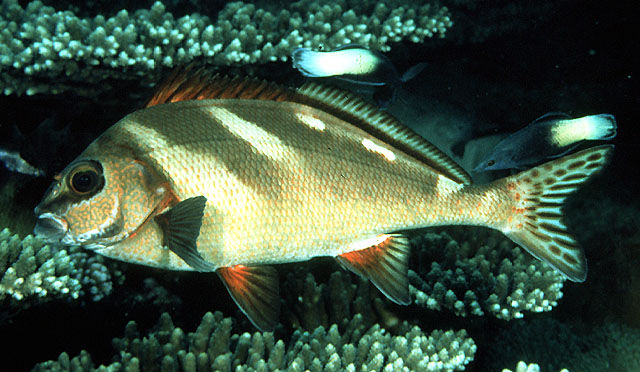fish: (36, 63, 613, 329)
